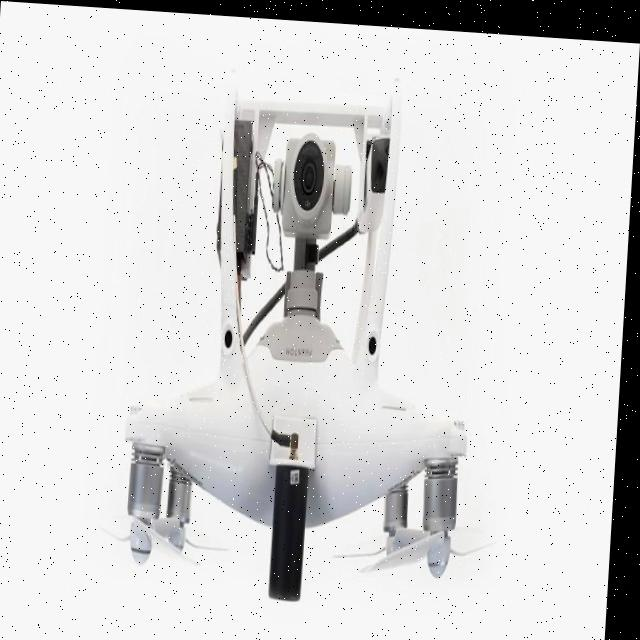drone: (48, 85, 531, 615)
